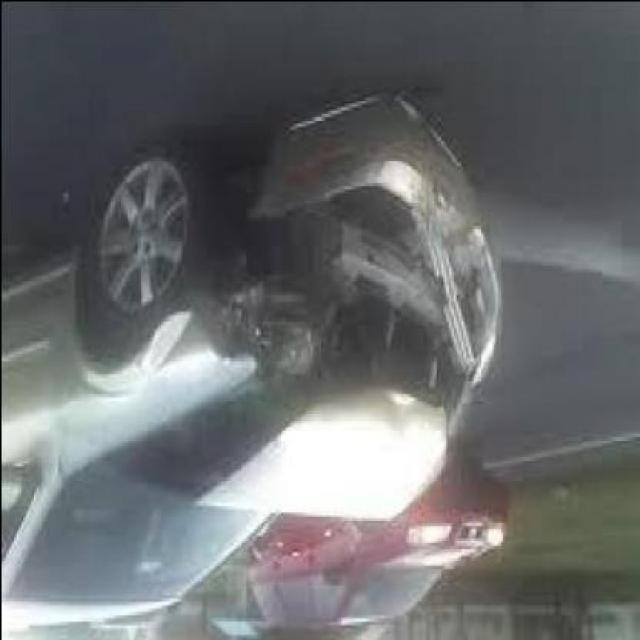damage: (88, 97, 505, 521)
